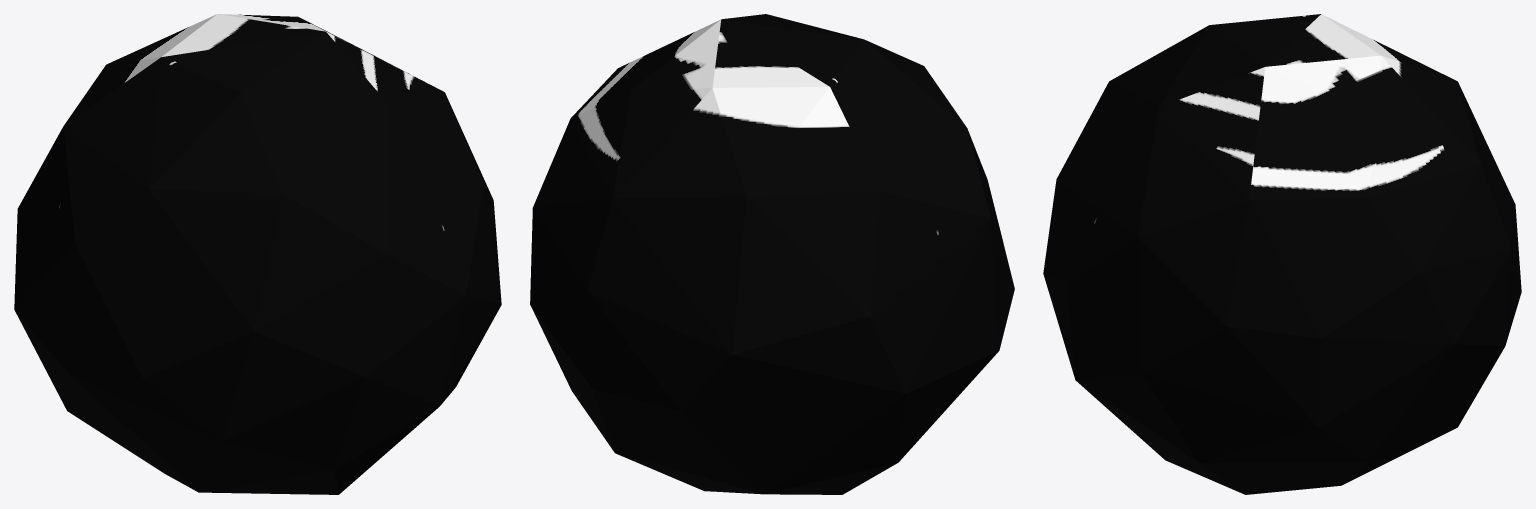
The model's file is BiomeOrbDrop.fbx.
The picture shows the model from 3 angles, left to right: view 1: azimuth 30°, elevation 25°; view 2: azimuth 150°, elevation 25°; view 3: azimuth 270°, elevation 25°; orthographic projection. The views are drawn at different scales.
Parts seen in each view (by area): view 1: BiomeOrb; view 2: BiomeOrb; view 3: BiomeOrb.
Boxes of the visible parts, box(x1,y1,x2,y2) form: BiomeOrb: box(14, 14, 501, 494); BiomeOrb: box(530, 14, 1014, 494); BiomeOrb: box(1043, 14, 1521, 494).
Size of the model in its own units: 132 by 131 by 132.
